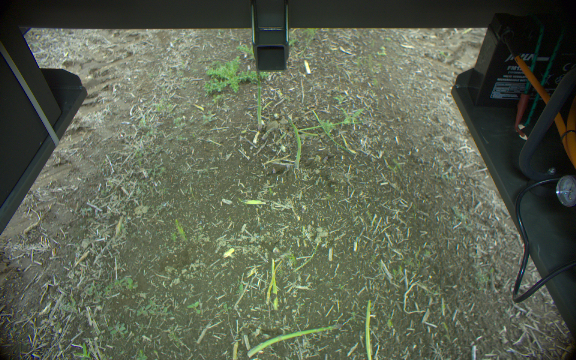aspa: (244, 321, 345, 360), (283, 113, 302, 171), (361, 295, 376, 360), (255, 69, 264, 135)
